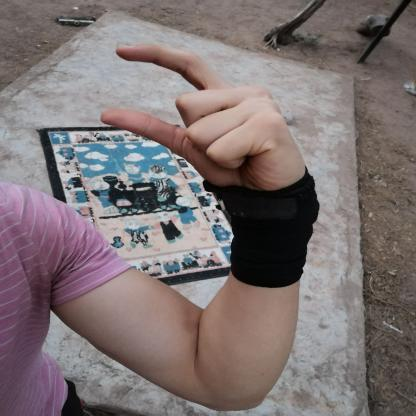DELL: (87, 36, 316, 202)
